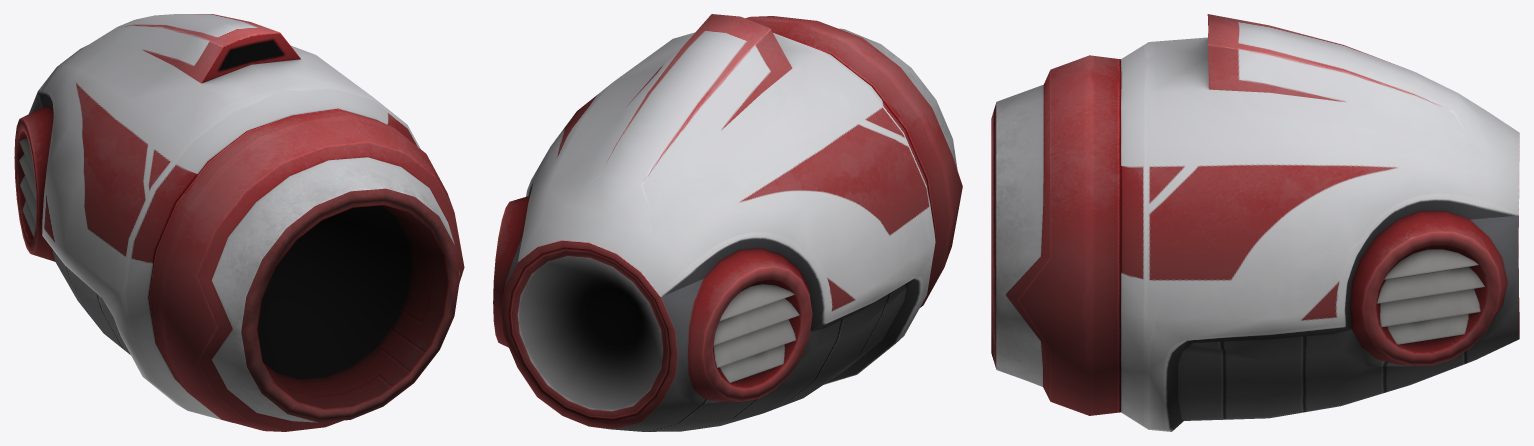
The model's file is Ball_Launcher.fbx.
The picture shows the model from 3 angles, left to right: view 1: azimuth 30°, elevation 25°; view 2: azimuth 150°, elevation 25°; view 3: azimuth 270°, elevation 25°; orthographic projection. The views are drawn at different scales.
Parts seen in each view (by area): view 1: Ball_Launcher; view 2: Ball_Launcher; view 3: Ball_Launcher.
Boxes of the visible parts, x1,y1,x2,y2 form: Ball_Launcher: (14,14,464,431); Ball_Launcher: (493,14,962,431); Ball_Launcher: (991,14,1519,431).
Bounding box in the file's own units: 5.25 × 5.71 × 7.02.
